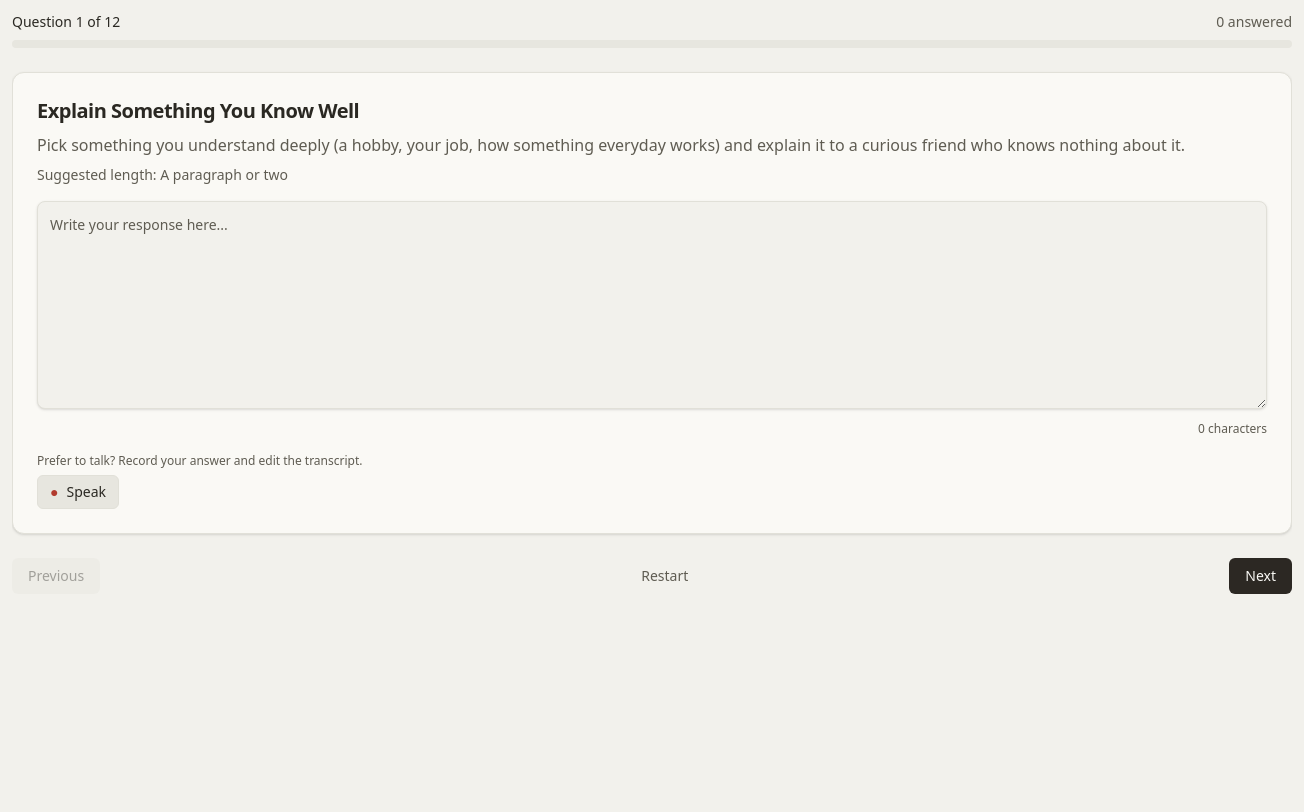
AssessmentPage › keeps a typed answer visible after navigating away and back
The width and height of the screenshot is (1304, 812).
Type "remember me" into the text box at (652, 305), box [37,201,1267,409]
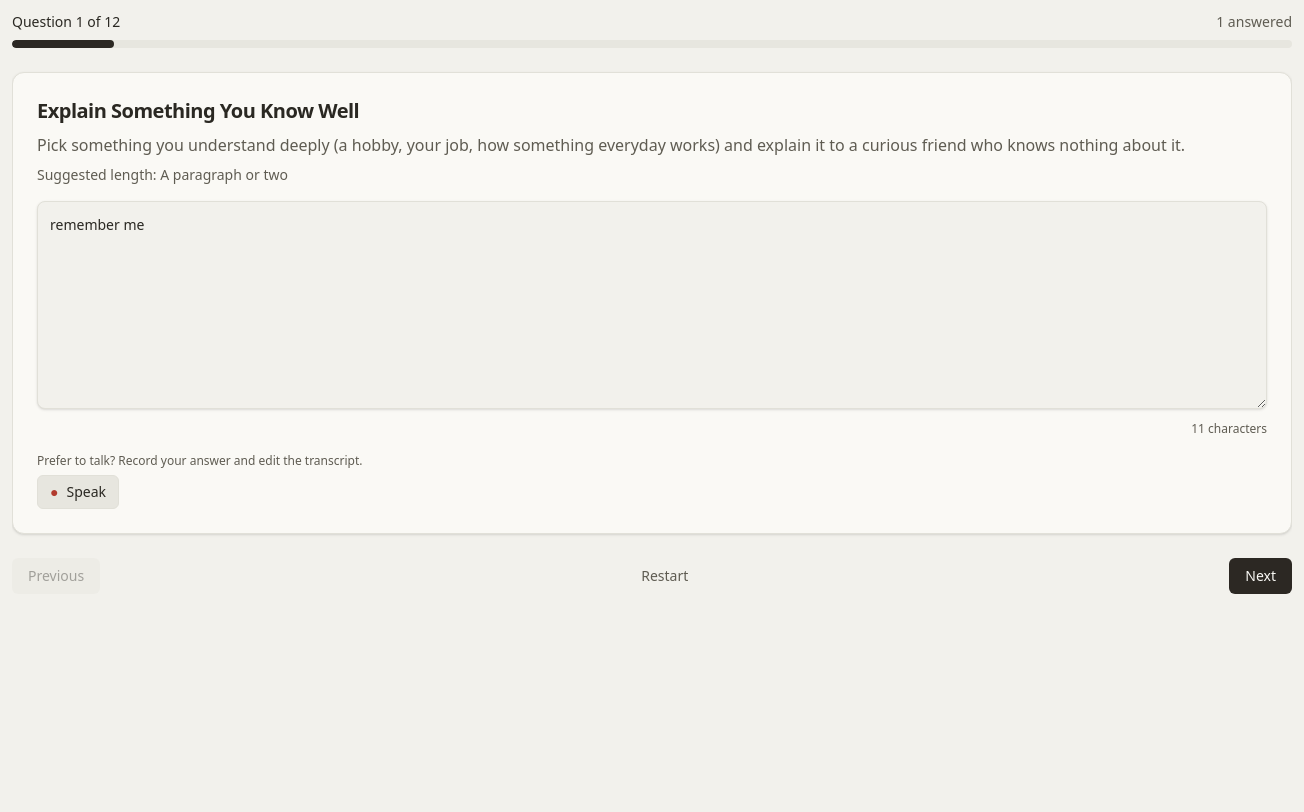
Click the button "Next" at (1261, 576), box [1229,558,1292,594]
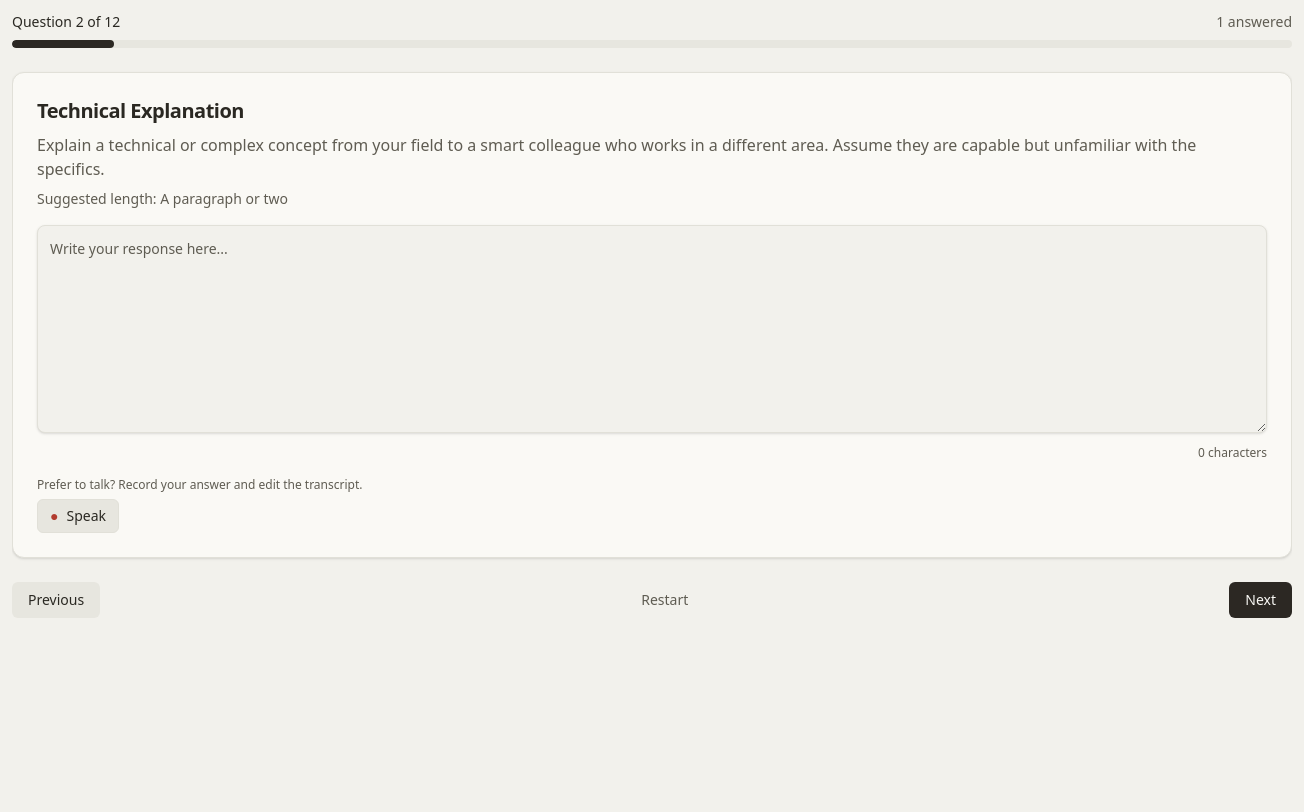
Click the button "Previous" at (56, 600), box [12,582,100,618]
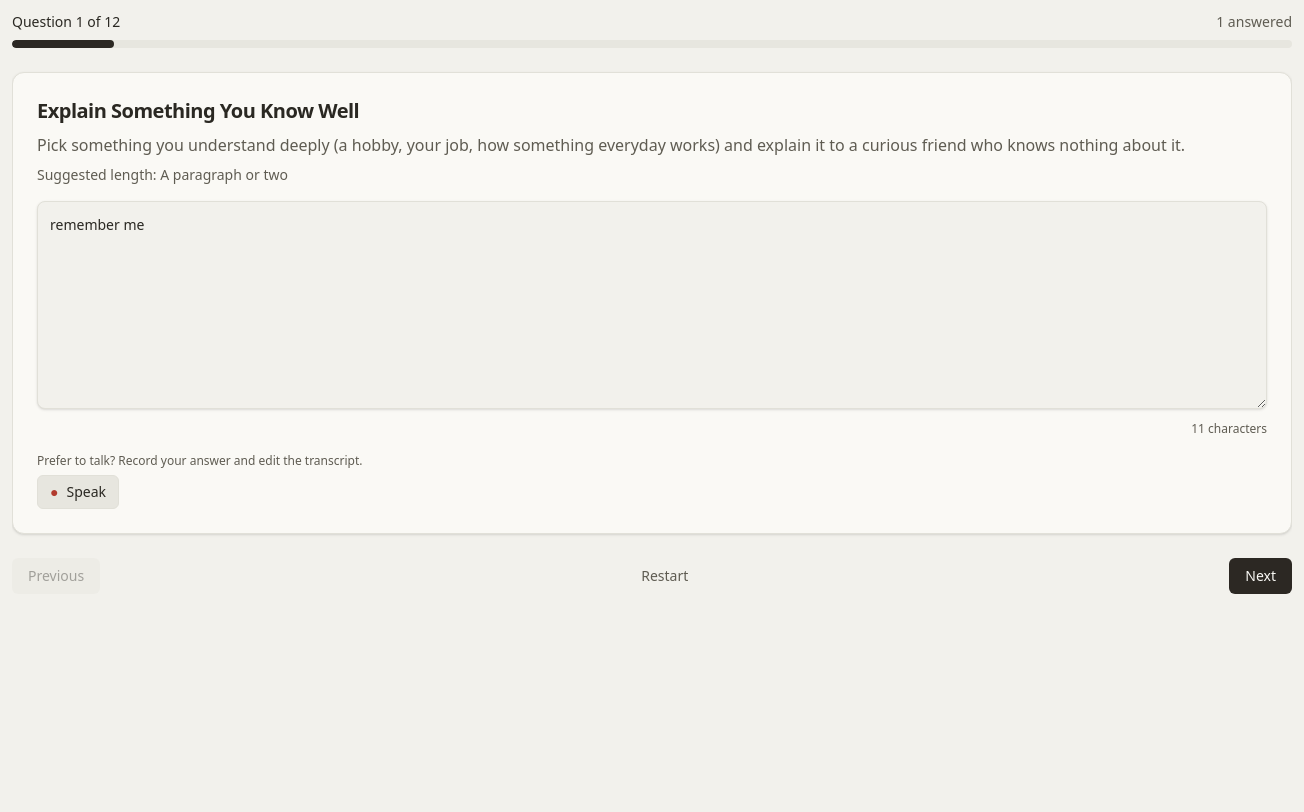
Result: the text box holds "remember me" at [37,201,1267,409]
